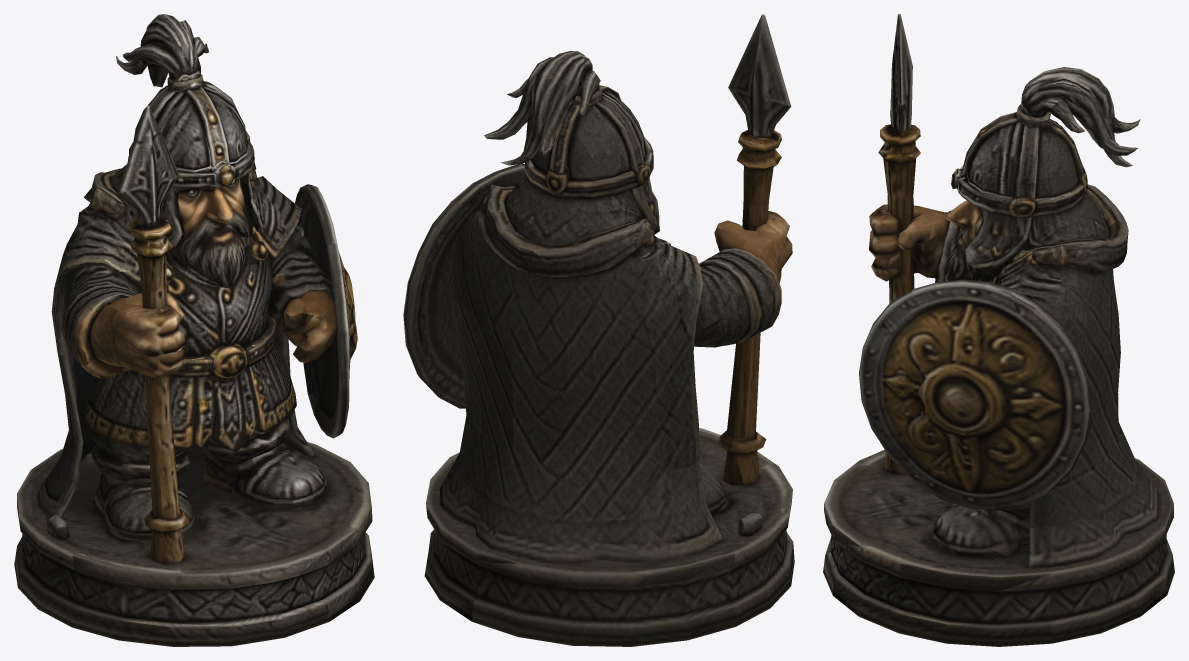
File: gondor.glb
3 renders of one model, left to right at view 1: azimuth 30°, elevation 25°; view 2: azimuth 150°, elevation 25°; view 3: azimuth 270°, elevation 25°, orthographic. The views are drawn at different scales.
Parts seen in each view (by area): view 1: mesh_node; view 2: mesh_node; view 3: mesh_node.
Part boxes in pixels (left/top/right/bottom): mesh_node: left=14, top=14, right=374, bottom=646; mesh_node: left=403, top=14, right=794, bottom=646; mesh_node: left=823, top=14, right=1174, bottom=646.
Size of the model in its own units: 0.623 by 1 by 0.623.
Materials: 1 (1 with a texture image).
